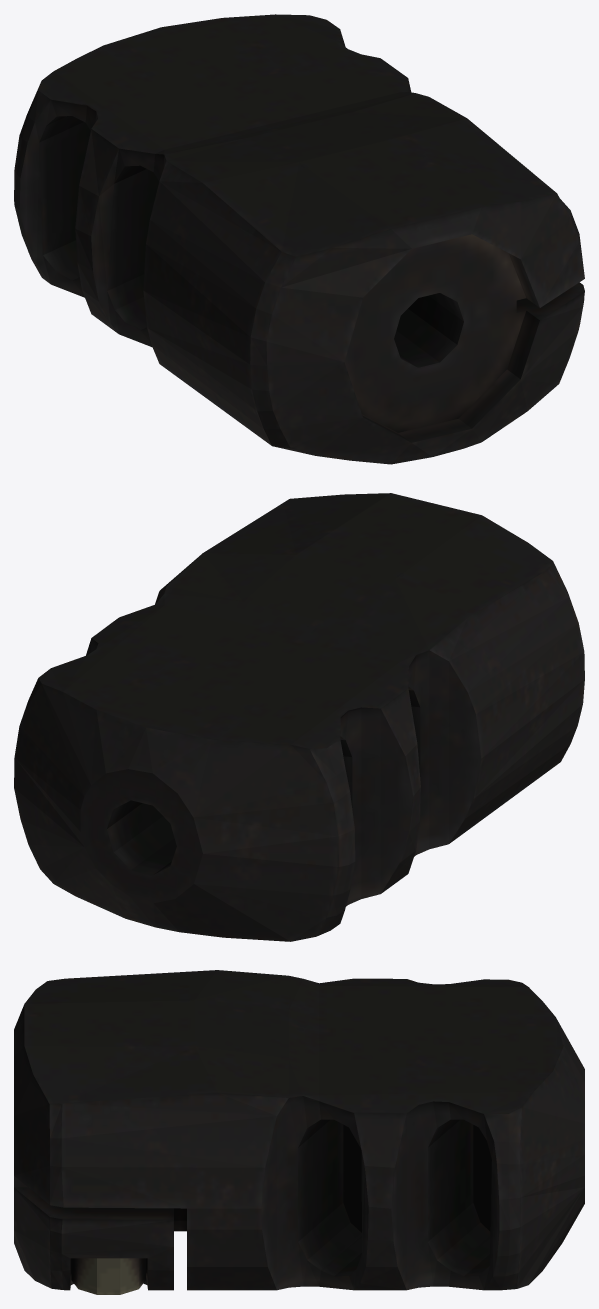
3 renders of one model, top to bottom at view 1: azimuth 30°, elevation 25°; view 2: azimuth 150°, elevation 25°; view 3: azimuth 270°, elevation 25°, orthographic. The views are drawn at different scales.
Parts seen in each view (by area): view 1: TW_5888996c24597754281f9419_PZ_Import; view 2: TW_5888996c24597754281f9419_PZ_Import; view 3: TW_5888996c24597754281f9419_PZ_Import.
Part boxes in pixels (bbox=[...]): TW_5888996c24597754281f9419_PZ_Import: bbox=[14, 14, 584, 464]; TW_5888996c24597754281f9419_PZ_Import: bbox=[14, 493, 584, 941]; TW_5888996c24597754281f9419_PZ_Import: bbox=[14, 970, 584, 1294].
Bounding box in the file's own units: 0.0247 × 0.0379 × 0.0166.
Materials: 1 (1 with a texture image).
